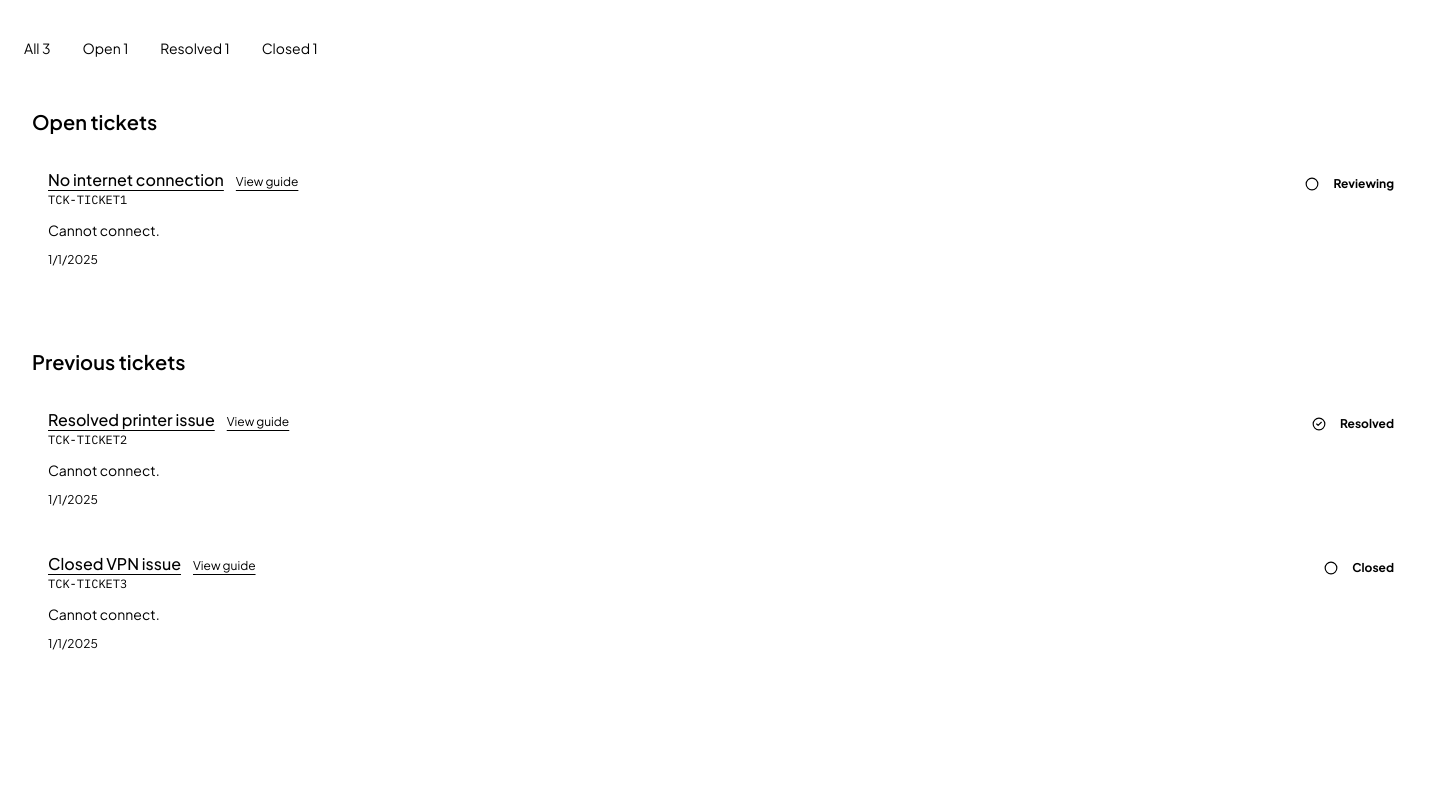
TicketsTable › renders filter chips with counts and filters to resolved tickets
This screenshot has width=1452, height=810.
Click the button "Resolved 1".
click(195, 48)  # box [148, 32, 242, 64]
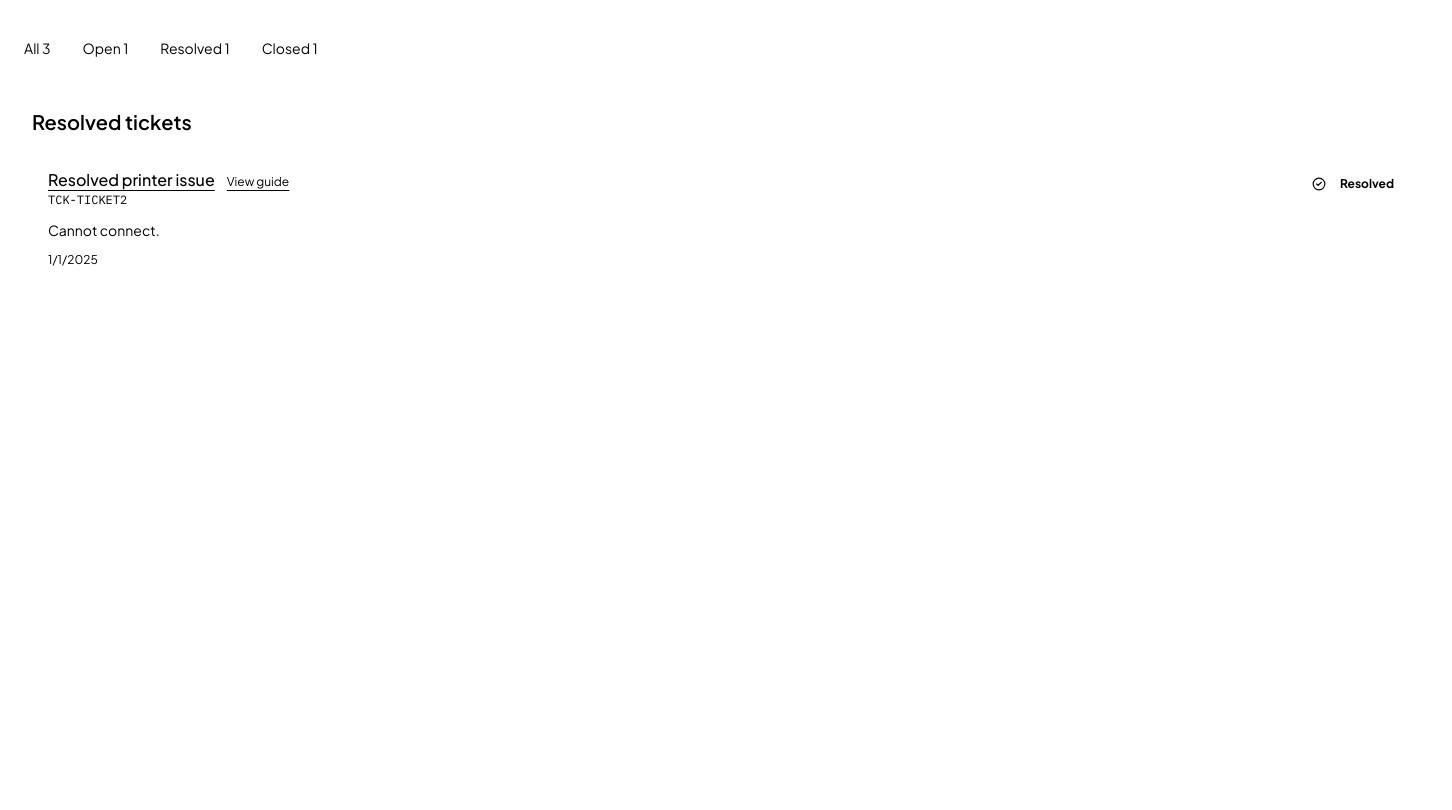
Expected: the link "Resolved printer issue" is shown, [48, 169, 215, 190]
Now the element with test id "tickets-open" is gone
Now the link "Closed VPN issue" is gone
